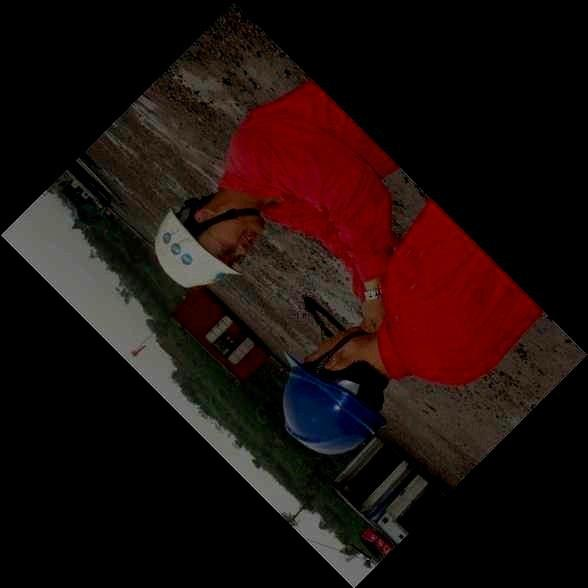helmet: (282, 325, 391, 455), (154, 185, 264, 289)
